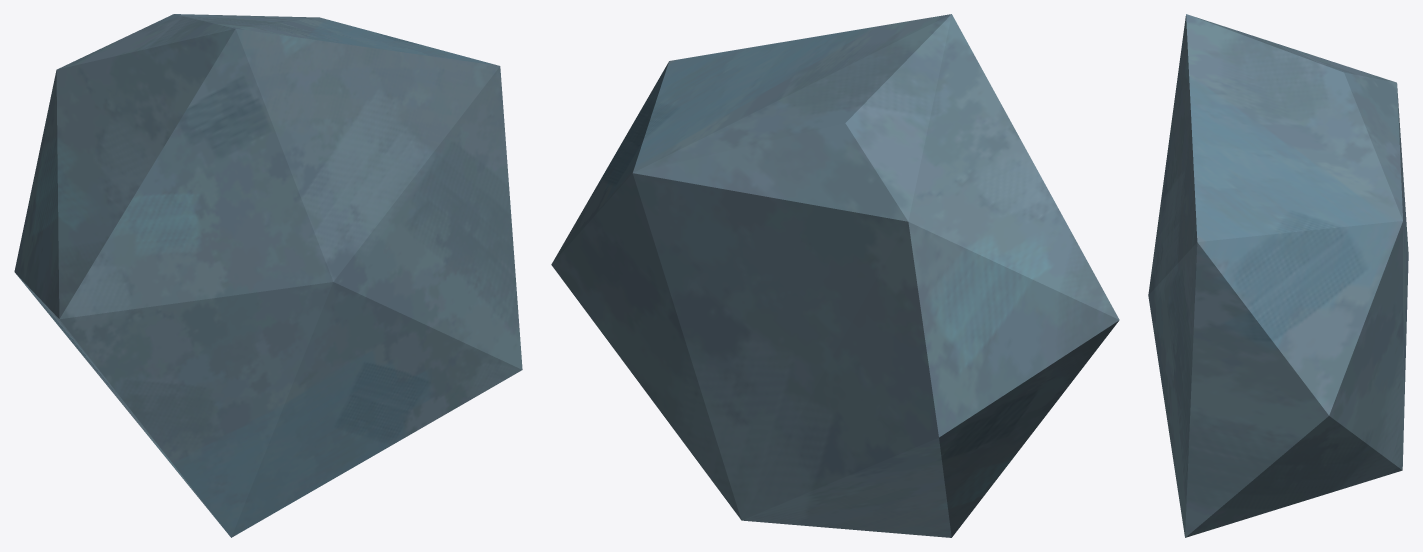
File: rock12.fbx
3 views of the same model, side by side, from view 1: azimuth 30°, elevation 25°; view 2: azimuth 150°, elevation 25°; view 3: azimuth 270°, elevation 25° (orthographic). The views are drawn at different scales.
Parts seen in each view (by area): view 1: rock12; view 2: rock12; view 3: rock12.
Boxes of the visible parts, x1,y1,x2,y2 form: rock12: (14,14,522,537); rock12: (551,14,1119,537); rock12: (1148,14,1408,537).
Size of the model in its own units: 30.87 by 30.92 by 15.02.
